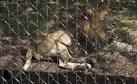lion: (18, 6, 133, 72)
